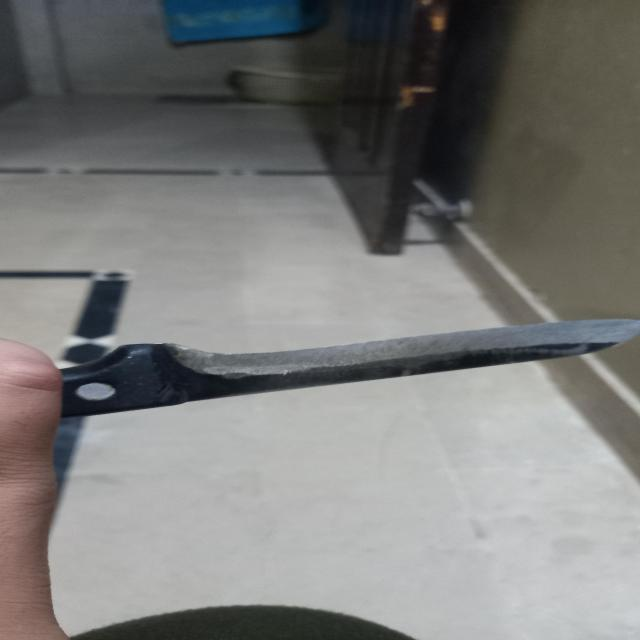weapon: (57, 316, 640, 418)
